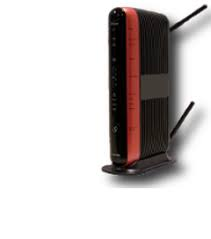Verizon Router: (98, 1, 211, 188)
